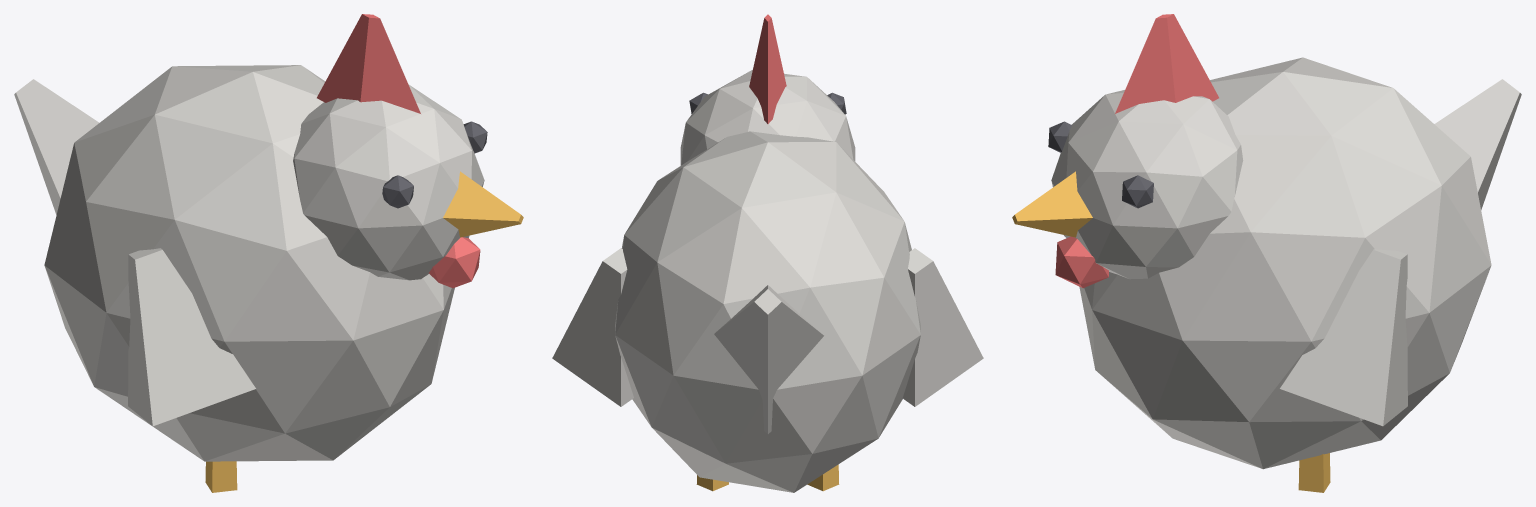
The model's file is gallina.glb.
3 views of the same model, side by side, from view 1: azimuth 30°, elevation 25°; view 2: azimuth 150°, elevation 25°; view 3: azimuth 270°, elevation 25° (orthographic). The views are drawn at different scales.
Visible parts, largest first — view 1: Gallina; view 2: Gallina; view 3: Gallina.
Boxes of the visible parts, x1,y1,x2,y2 form: Gallina: (14,14,523,492); Gallina: (552,14,983,492); Gallina: (1012,14,1521,492).
Size of the model in its own units: 0.8141 by 1 by 0.9706.
